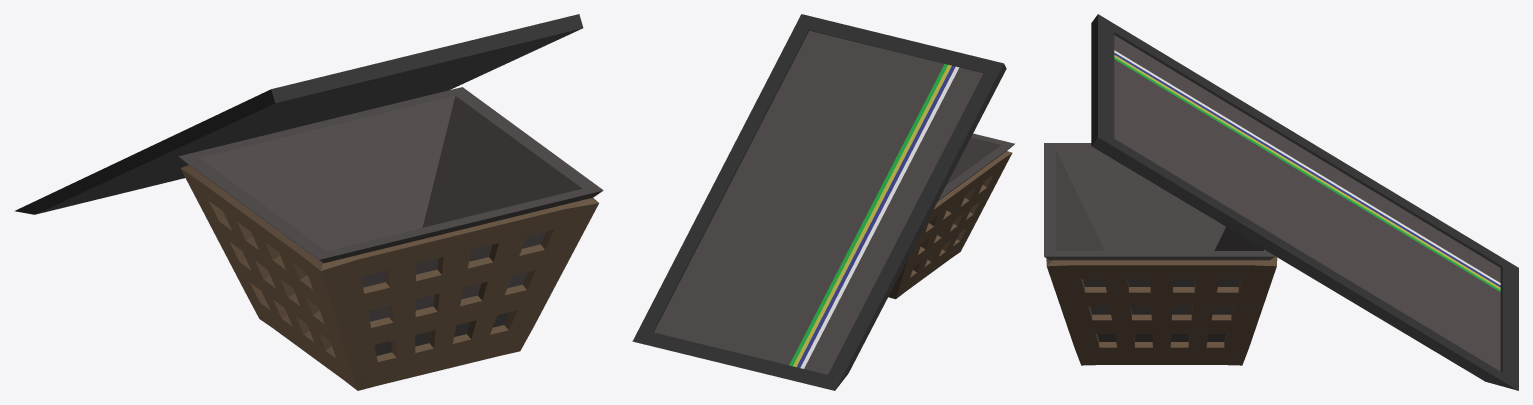
Rendered from Rampa 6.fbx.
3 renders of one model, left to right at view 1: azimuth 30°, elevation 25°; view 2: azimuth 150°, elevation 25°; view 3: azimuth 270°, elevation 25°, orthographic. The views are drawn at different scales.
Parts seen in each view (by area): view 1: Bolsa, Tacho, Pantalla_Rota3; view 2: Pantalla_Rota3, Tacho, Bolsa; view 3: Pantalla_Rota3, Tacho, Bolsa.
Part boxes in pixels (x1=…): Bolsa: x1=178, y1=87, x2=603, y2=355; Tacho: x1=180, y1=165, x2=598, y2=390; Pantalla_Rota3: x1=14, y1=14, x2=583, y2=214; Pantalla_Rota3: x1=632, y1=14, x2=1006, y2=390; Tacho: x1=888, y1=151, x2=1012, y2=299; Bolsa: x1=929, y1=133, x2=1015, y2=222; Pantalla_Rota3: x1=1091, y1=14, x2=1518, y2=390; Tacho: x1=1046, y1=256, x2=1277, y2=365; Bolsa: x1=1044, y1=143, x2=1275, y2=341.
Bounding box in the file's own units: 3.19 × 3.09 × 5.19.
